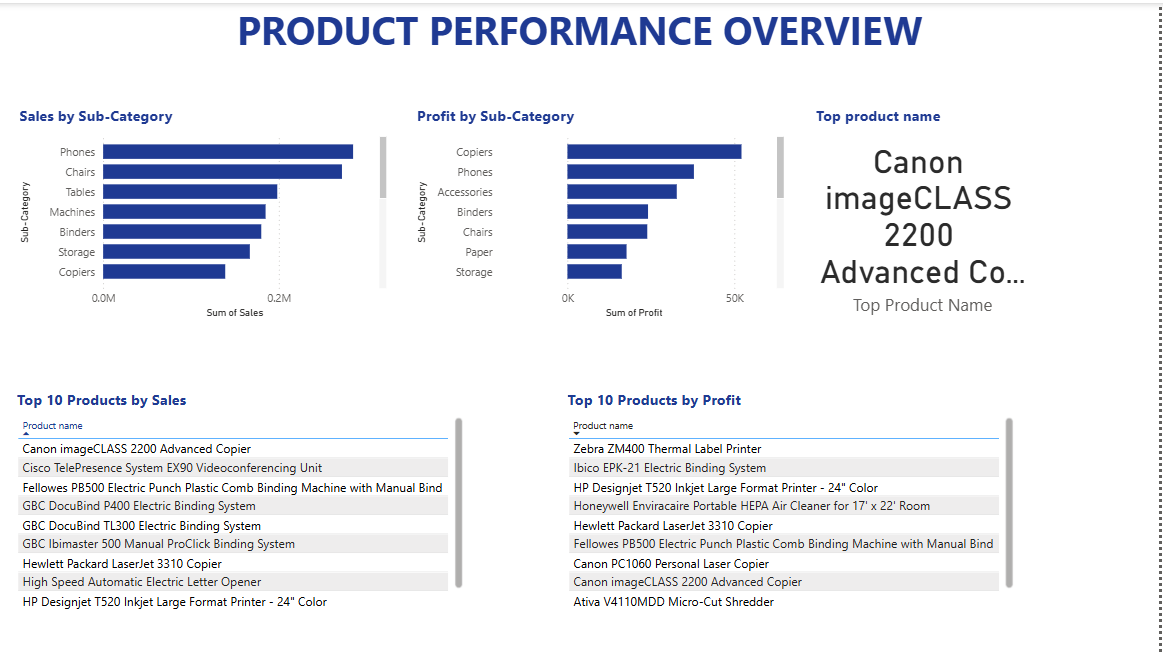

What the dashboard file says about the page in this screenshot:
{"tool":"powerbi","page":{"name":"Product performance","canvas":[1280,720],"ordinal":1},"visuals":[{"type":"barChart","title":"Sales by Sub-Category","fields":{"Category":["Orders.Sub-Category"],"Y":["Sum(Orders.Sales)"]},"box":[16,112,430,240],"z":0},{"type":"clusteredBarChart","title":"Profit by Sub-Category","fields":{"Category":["Orders.Sub-Category"],"Y":["Sum(Orders.Profit)"]},"box":[456,112,430,240],"z":1000},{"type":"tableEx","title":"Top 10 Products by Sales","fields":{"Values":["Orders.Product Name"]},"box":[14.7,422.7,500,250],"z":2000},{"type":"tableEx","title":"Top 10 Products by Profit","fields":{"Values":["Orders.Product Name"]},"box":[622.7,422.7,500,250],"z":3000},{"type":"card","title":"Top product name","fields":{"Values":["Orders.Top Product Name"]},"box":[896,112,260,240],"z":4000},{"type":"textbox","box":[0,0,1280,80],"z":5000}]}

Visuals, with their boxes in screenshot pixels (x1, y1, x2, y2), scaled from the page's 1280x720 canvas onto the 1163x655 screenshot:
"Sales by Sub-Category" barChart: {"left": 15, "top": 102, "right": 405, "bottom": 320}
"Profit by Sub-Category" clusteredBarChart: {"left": 414, "top": 102, "right": 805, "bottom": 320}
"Top 10 Products by Sales" tableEx: {"left": 13, "top": 385, "right": 468, "bottom": 612}
"Top 10 Products by Profit" tableEx: {"left": 566, "top": 385, "right": 1020, "bottom": 612}
"Top product name" card: {"left": 814, "top": 102, "right": 1050, "bottom": 320}
textbox: {"left": 0, "top": 0, "right": 1162, "bottom": 73}
